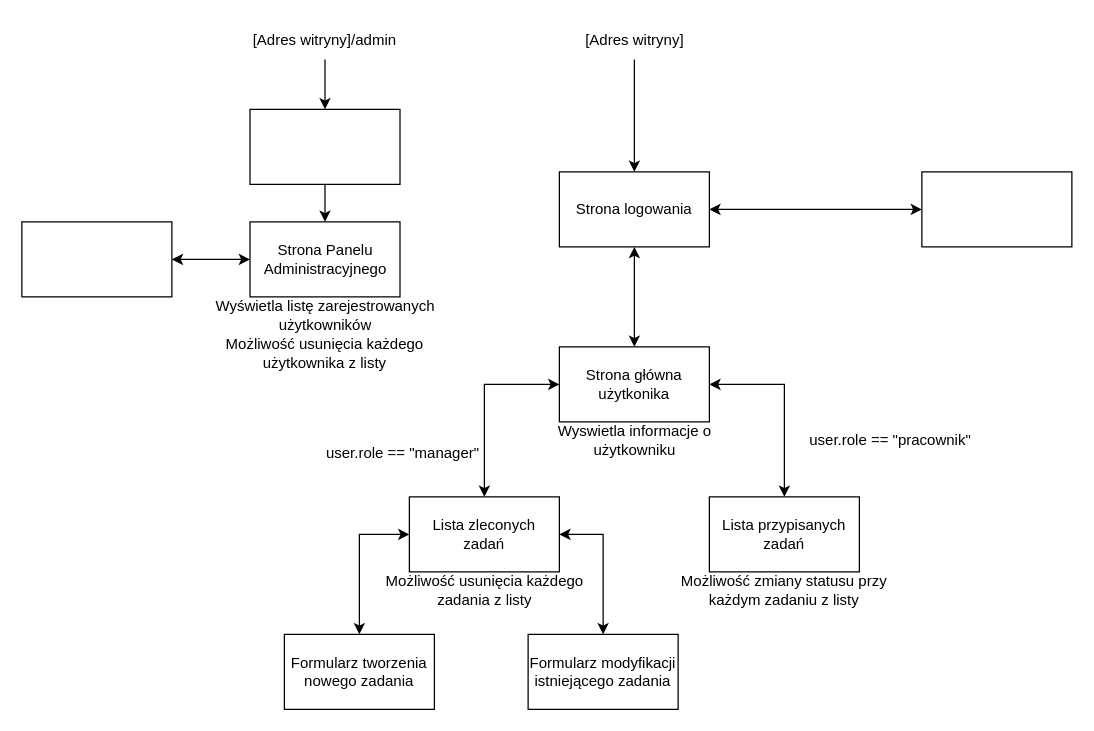
This 1094x731 diagram has some shape labels left out. The box of each missing label's shape, as (x1, y1, x2, y2) in pixels:
Formularz modyfikacji użytkownika: (21, 221, 172, 297)
Strona logowania do panelu administracyjnego: (249, 108, 400, 184)
Strona rejestracji: (921, 171, 1072, 247)
